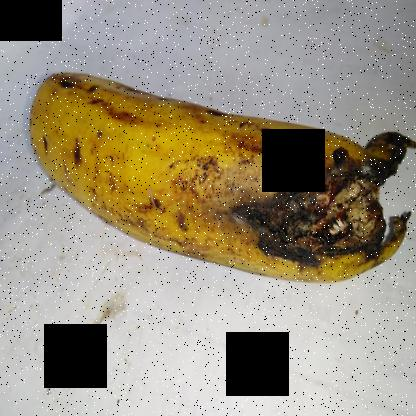rotten: (210, 128, 415, 322)
